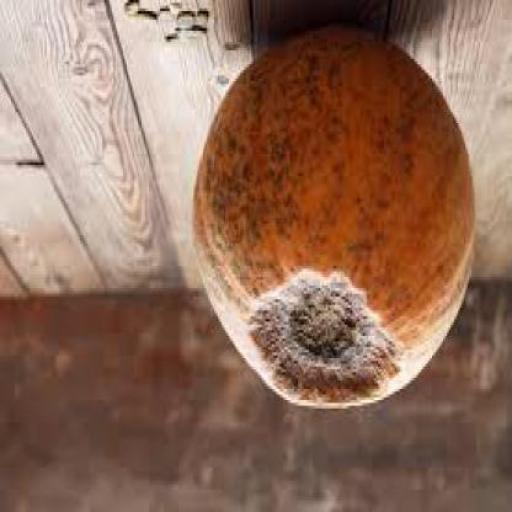biodegradable: (188, 28, 473, 412), (130, 9, 152, 28), (120, 3, 142, 22), (168, 14, 190, 30), (172, 33, 206, 42), (192, 8, 208, 25), (152, 11, 168, 28), (160, 39, 177, 47)
